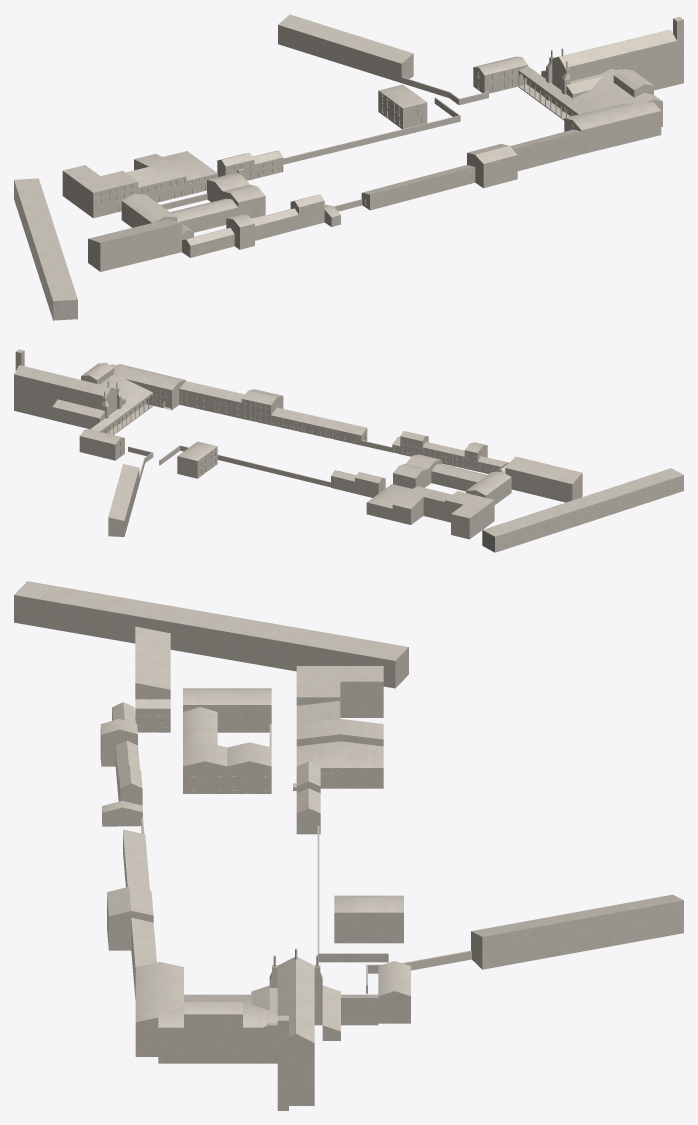
The model's file is Edifici prova cartone bianco.glb.
3 views of the same model, one above another, from view 1: azimuth 30°, elevation 25°; view 2: azimuth 150°, elevation 25°; view 3: azimuth 270°, elevation 25° (orthographic). The views are drawn at different scales.
Parts seen in each view (by area): view 1: Booleana_12; view 2: Booleana_12; view 3: Booleana_12.
Boxes of the visible parts, x1=… form: Booleana_12: x1=14, y1=14, x2=683, y2=320; Booleana_12: x1=14, y1=349, x2=683, y2=552; Booleana_12: x1=14, y1=581, x2=683, y2=1110.
Size of the model in its own units: 310 by 26.18 by 176.
1 material, 1 textured.
